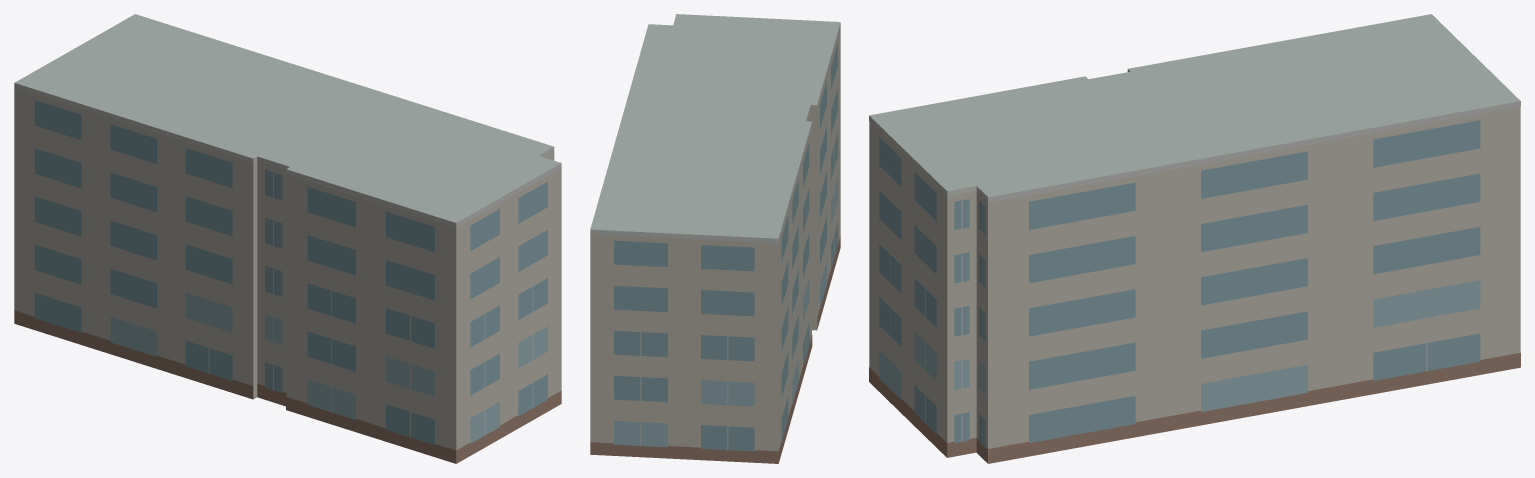
Rendered from survey-upis-32977381.glb.
The picture shows the model from 3 angles, left to right: view 1: azimuth 30°, elevation 25°; view 2: azimuth 150°, elevation 25°; view 3: azimuth 270°, elevation 25°; orthographic projection. The views are drawn at different scales.
Visible parts, largest first — view 1: survey-upis-32977381.tmp; view 2: survey-upis-32977381.tmp; view 3: survey-upis-32977381.tmp.
Boxes of the visible parts, <box> form: survey-upis-32977381.tmp: <box>14,14,561,463</box>; survey-upis-32977381.tmp: <box>590,14,840,463</box>; survey-upis-32977381.tmp: <box>869,14,1520,463</box>.
Size of the model in its own units: 17.49 by 11.85 by 26.27.
